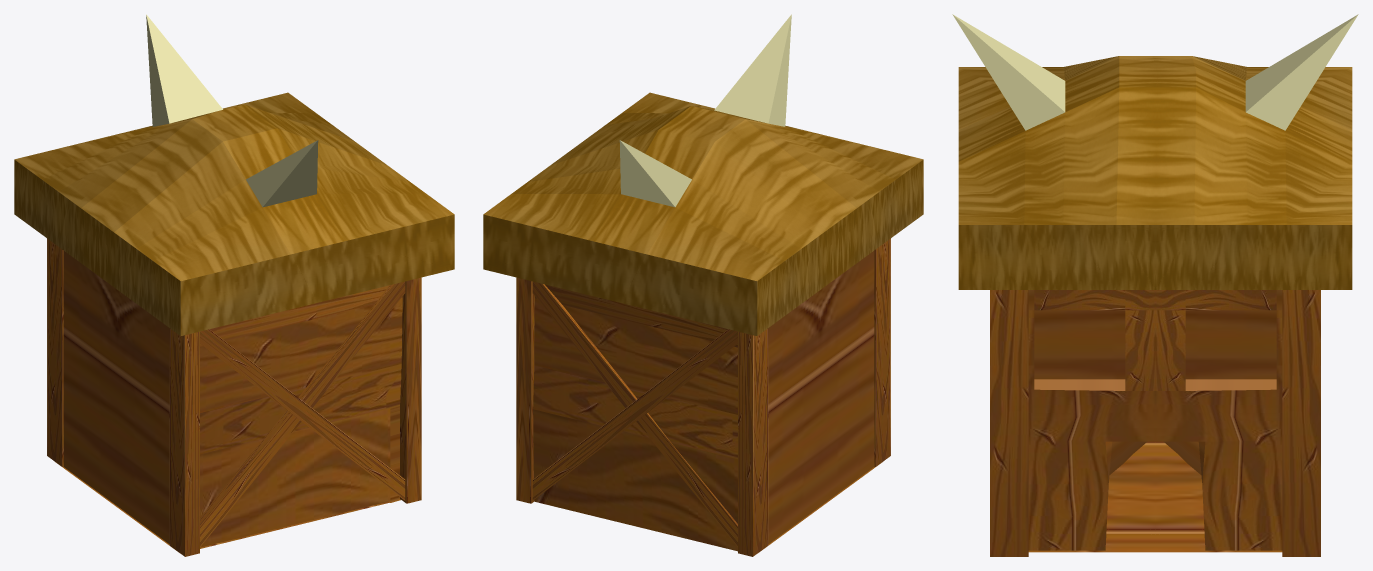
File: goblin_hut.fbx
3 renders of one model, left to right at view 1: azimuth 30°, elevation 25°; view 2: azimuth 150°, elevation 25°; view 3: azimuth 270°, elevation 25°, orthographic. The views are drawn at different scales.
Parts seen in each view (by area): view 1: Cube; view 2: Cube; view 3: Cube.
Boxes of the visible parts, box(x1,y1,x2,y2) form: Cube: box(14, 14, 454, 556); Cube: box(483, 14, 923, 556); Cube: box(952, 14, 1358, 556).
Size of the model in its own units: 245 by 345 by 267.
Materials: 5 (2 with a texture image).
